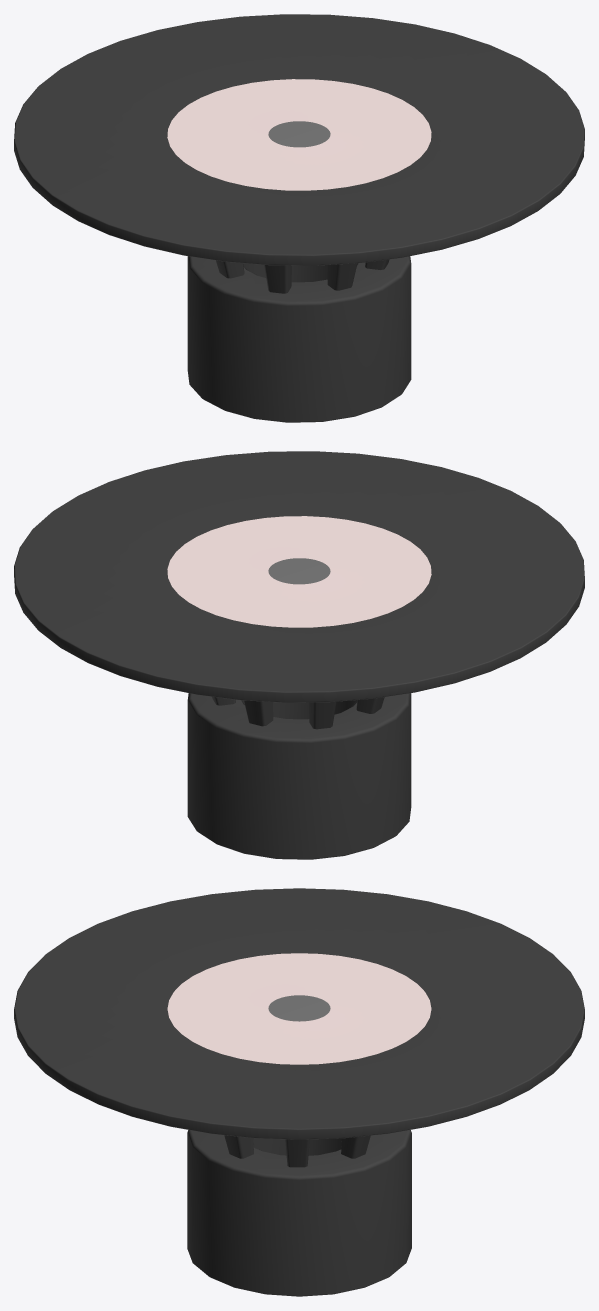
File: Store_13_Table_1.glb
3 views of the same model, one above another, from view 1: azimuth 30°, elevation 25°; view 2: azimuth 150°, elevation 25°; view 3: azimuth 270°, elevation 25° (orthographic).
Parts seen in each view (by area): view 1: Store_13_Table_1; view 2: Store_13_Table_1; view 3: Store_13_Table_1.
Part boxes in pixels (left/top/right/bottom): Store_13_Table_1: left=14, top=14, right=584, bottom=422; Store_13_Table_1: left=14, top=451, right=584, bottom=859; Store_13_Table_1: left=14, top=888, right=584, bottom=1296.
Bounding box in the file's own units: 1.69 × 0.7888 × 1.69.
1 material, 1 textured.
